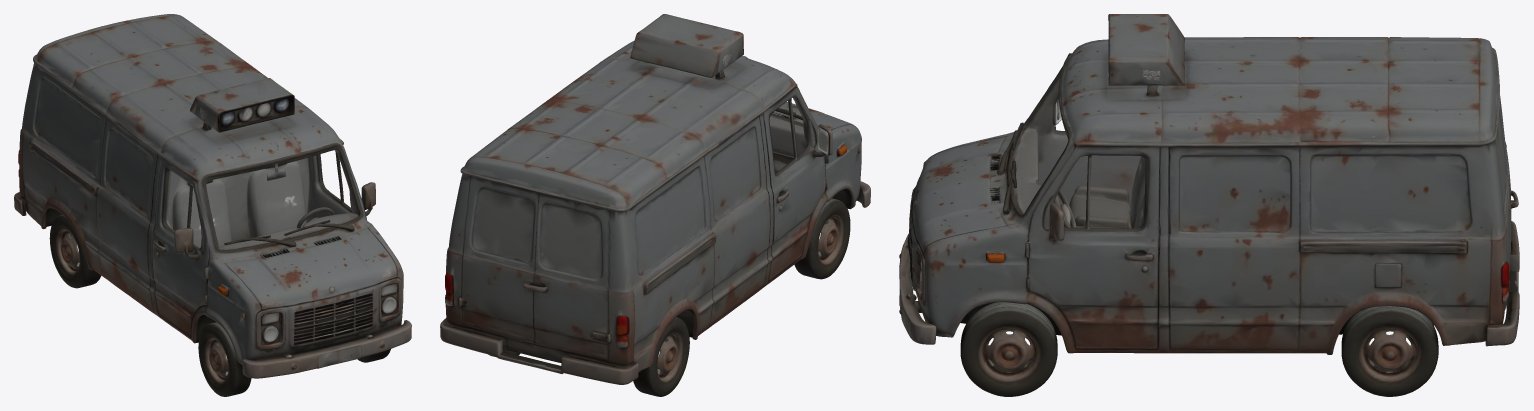
File: 052_surveillance_cargo_van.glb
3 renders of one model, left to right at view 1: azimuth 30°, elevation 25°; view 2: azimuth 150°, elevation 25°; view 3: azimuth 270°, elevation 25°, orthographic. The views are drawn at different scales.
Parts seen in each view (by area): view 1: geometry_0; view 2: geometry_0; view 3: geometry_0.
Boxes of the visible parts, x1,y1,x2,y2 form: geometry_0: (14, 14, 411, 396); geometry_0: (440, 14, 870, 396); geometry_0: (899, 14, 1519, 396).
Bounding box in the file's own units: 2.59 × 3 × 5.4.
1 material, 1 textured.
